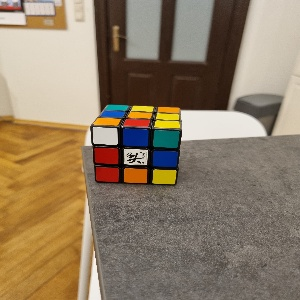cube: (90, 104, 183, 184)
